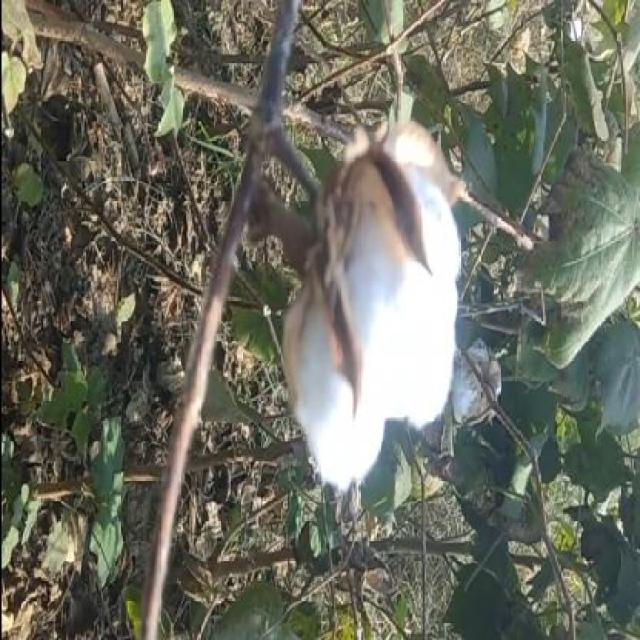cotton_ready: (227, 86, 485, 486)
